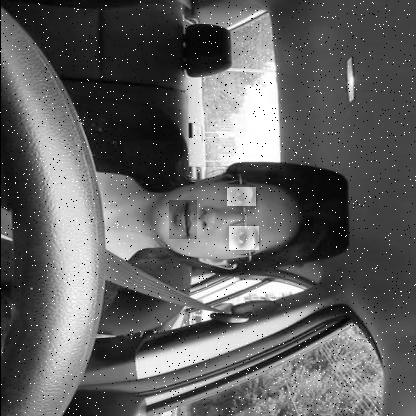seatbelt: (0, 155, 333, 297)
